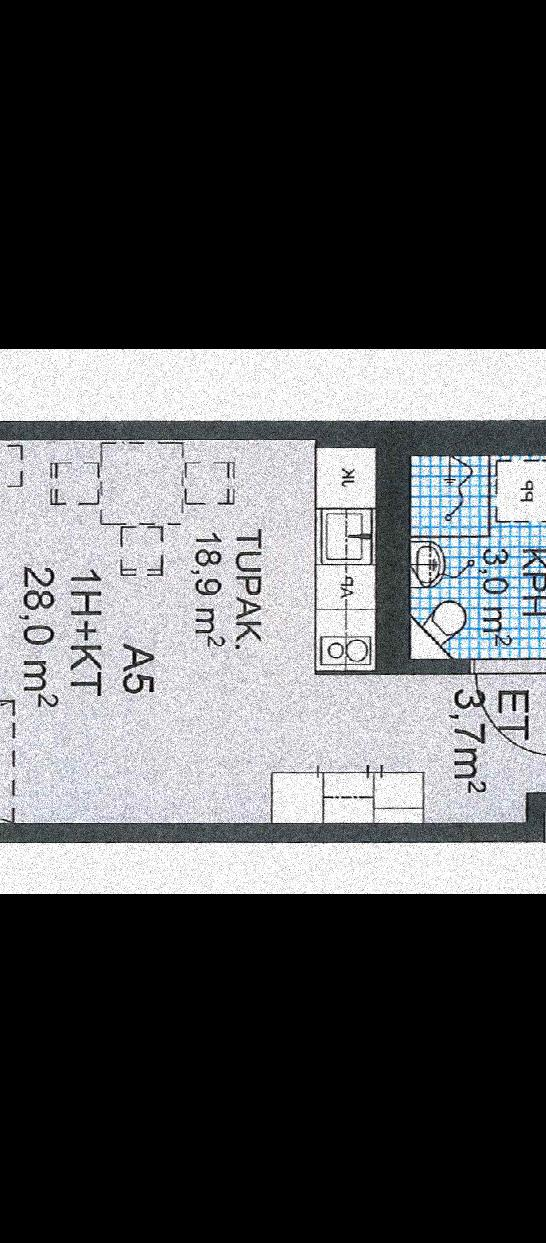door: (474, 650, 546, 768)
zone: (0, 450, 546, 821), (408, 457, 546, 659)
